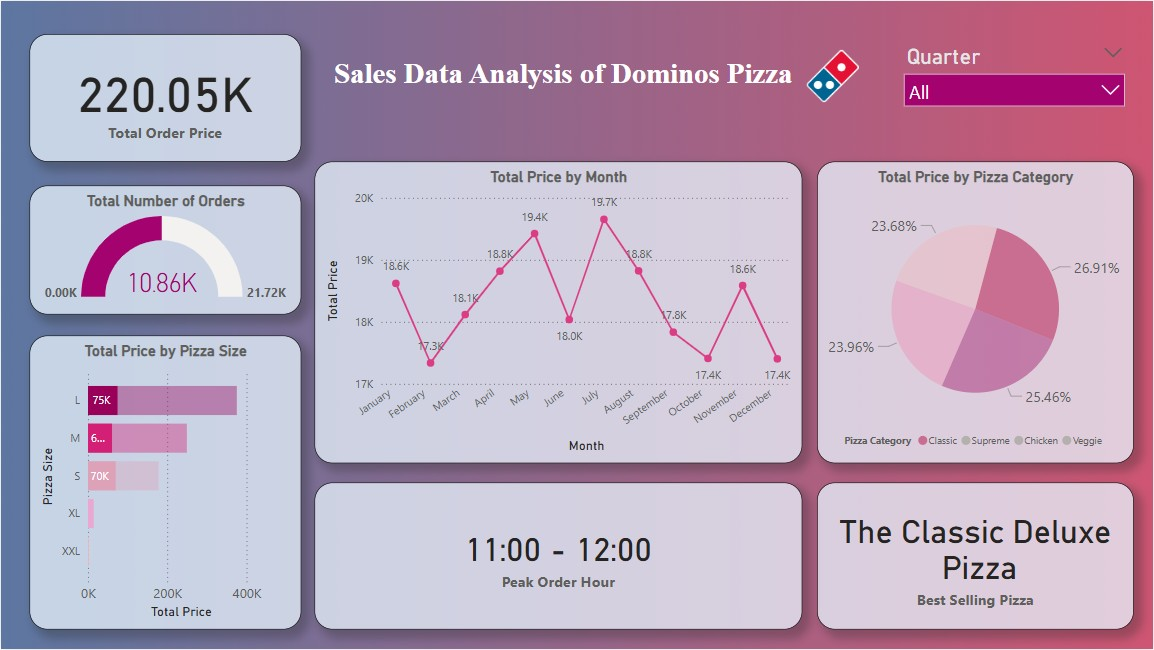

The dashboard page shown, as its layout file describes it:
{"tool":"powerbi","page":{"name":"Page 1","canvas":[1280,720],"ordinal":0},"visuals":[{"type":"card","fields":{"Values":["Sum(pizza_sales.total_price)"]},"box":[31.7,36.7,301.7,141.7],"z":0},{"type":"pieChart","fields":{"Y":["Sum(pizza_sales.total_price)"],"Category":["pizza_sales.pizza_category"]},"box":[906.7,178.3,351.7,335],"z":1000},{"type":"lineChart","fields":{"Category":["pizza_sales.order_date.Variation.Date Hierarchy.Month"],"Y":["Sum(pizza_sales.total_price)"]},"box":[348.3,178.3,541.7,335],"z":2000},{"type":"slicer","fields":{"Values":["pizza_sales.order_date.Variation.Date Hierarchy.Quarter"]},"box":[993.3,41.7,265,83.3],"z":3000},{"type":"barChart","fields":{"Category":["pizza_sales.pizza_size"],"Y":["Sum(pizza_sales.total_price)"]},"box":[31.7,371.7,301.7,326.7],"z":4000},{"type":"card","fields":{"Values":["pizza_sales.Best Selling Pizza"]},"box":[906.7,535,351.7,163.3],"z":5000},{"type":"card","fields":{"Values":["pizza_sales.Peak Order Hour"]},"box":[348.3,535,541.7,163.3],"z":6000},{"type":"gauge","fields":{"Y":["Count(pizza_sales.order_id)"]},"box":[31.7,205,301.7,143.3],"z":7000},{"type":"textbox","box":[365,56.7,541.7,53.3],"z":8000},{"type":"image","box":[890,48.3,68.3,70],"z":9000}]}

Visuals, with their boxes in screenshot pixels (x1, y1, x2, y2), scaled from the page's 1280x720 canvas onto the 1154x650 screenshot:
card - Sum(pizza_sales.total_price): left=29, top=33, right=301, bottom=161
pieChart - Sum(pizza_sales.total_price) x pizza_sales.pizza_category: left=817, top=161, right=1135, bottom=463
lineChart - pizza_sales.order_date.Variation.Date Hierarchy.Month x Sum(pizza_sales.total_price): left=314, top=161, right=802, bottom=463
slicer - pizza_sales.order_date.Variation.Date Hierarchy.Quarter: left=896, top=38, right=1134, bottom=113
barChart - pizza_sales.pizza_size x Sum(pizza_sales.total_price): left=29, top=336, right=301, bottom=630
card - pizza_sales.Best Selling Pizza: left=817, top=483, right=1135, bottom=630
card - pizza_sales.Peak Order Hour: left=314, top=483, right=802, bottom=630
gauge - Count(pizza_sales.order_id): left=29, top=185, right=301, bottom=314
textbox: left=329, top=51, right=817, bottom=99
image: left=802, top=44, right=864, bottom=107
